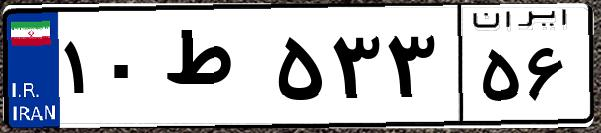0: (110, 28, 158, 98)
1: (57, 26, 110, 100)
3: (385, 28, 445, 110), (330, 28, 385, 110)
5: (270, 28, 330, 110), (475, 38, 525, 113)
6: (525, 38, 570, 115)
ط: (158, 20, 270, 120)
